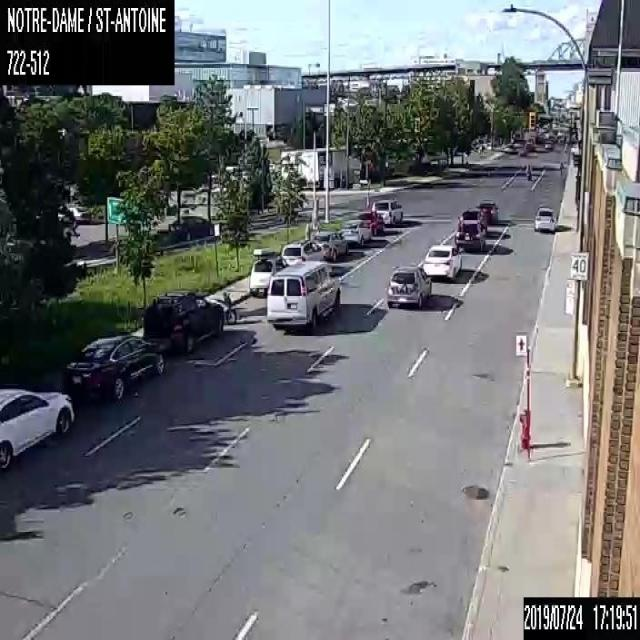pedestrian: (558, 160, 564, 180)
vehicle: (65, 334, 167, 398), (0, 388, 74, 471), (267, 260, 340, 328), (144, 290, 222, 352), (248, 248, 288, 296), (386, 264, 431, 304), (281, 238, 324, 268), (422, 244, 461, 276), (168, 213, 214, 240), (312, 230, 348, 261), (205, 291, 236, 324), (454, 219, 484, 250), (340, 218, 371, 244), (371, 198, 403, 222), (456, 208, 486, 229), (357, 210, 382, 234), (475, 199, 498, 225), (534, 205, 556, 231), (526, 162, 532, 180)
